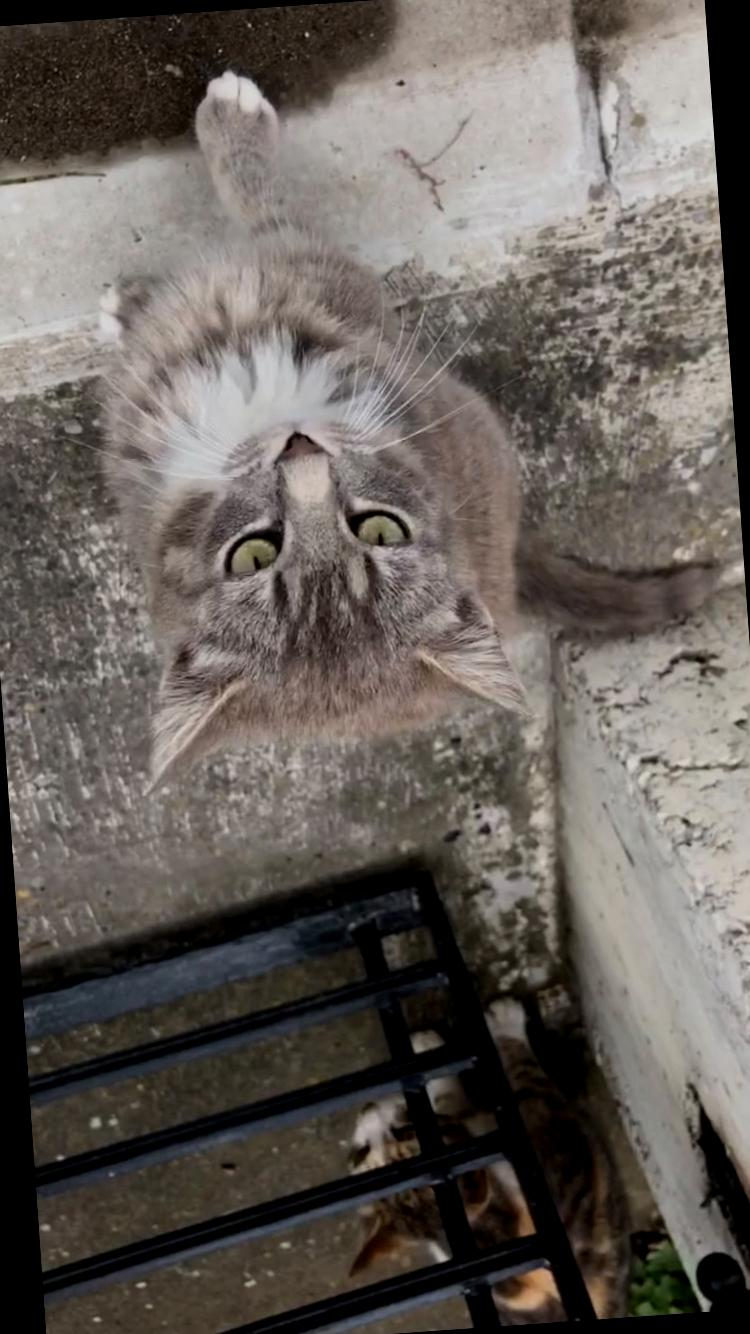macka: (80, 42, 744, 795)
